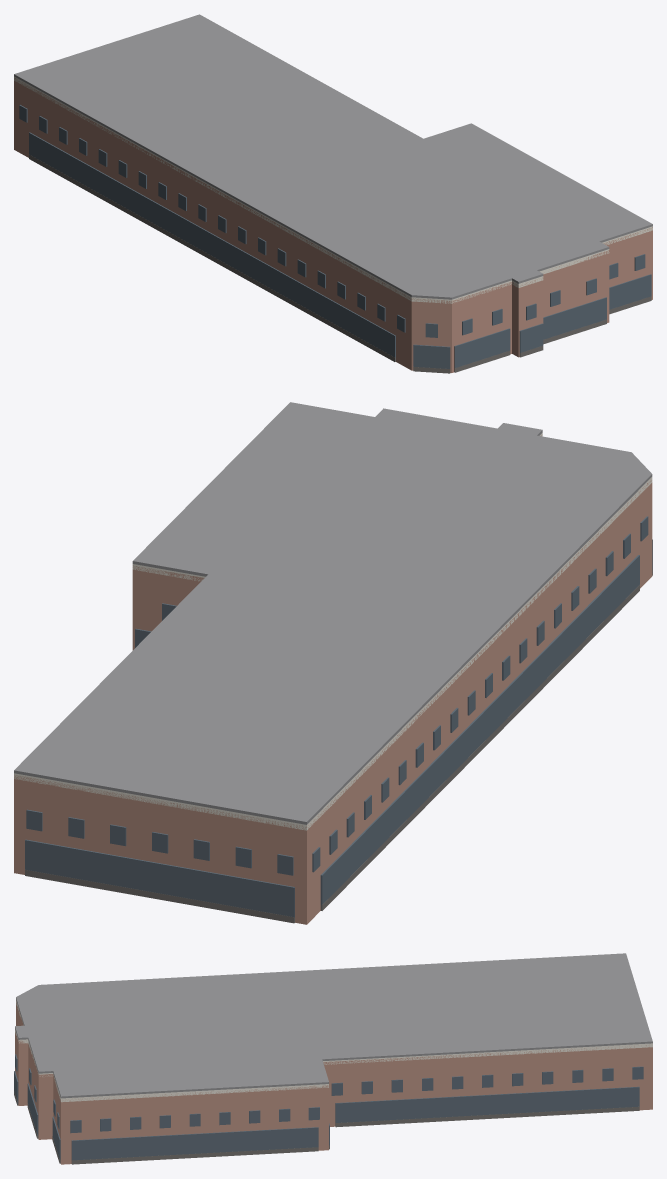
The model's file is s24_gis_247859_820649.glb.
The picture shows the model from 3 angles, top to bottom: view 1: azimuth 30°, elevation 25°; view 2: azimuth 150°, elevation 25°; view 3: azimuth 270°, elevation 25°; orthographic projection. The views are drawn at different scales.
Visible parts, largest first — view 1: roofcap, mass, store_0, cornice, bulk_0, store_6, store_2, store_8, store_1, store_4; view 2: roofcap, mass, store_0, store_12, cornice, bulk_0, bulk_12; view 3: roofcap, mass, store_11, store_9, cornice, bulk_11, bulk_9.
Part boxes in pixels (<box>): roofcap: <box>14,14,652,299</box>; mass: <box>14,78,652,372</box>; store_0: <box>29,132,395,359</box>; cornice: <box>14,76,652,303</box>; bulk_0: <box>29,154,395,361</box>; store_6: <box>543,297,606,339</box>; store_2: <box>454,328,510,370</box>; store_8: <box>609,274,651,309</box>; store_1: <box>413,344,450,368</box>; store_4: <box>519,323,543,352</box>; roofcap: <box>14,402,652,824</box>; mass: <box>14,435,652,924</box>; store_0: <box>320,555,639,908</box>; store_12: <box>25,839,294,920</box>; cornice: <box>14,433,652,830</box>; bulk_0: <box>320,585,639,910</box>; bulk_12: <box>25,869,294,923</box>; roofcap: <box>15,953,652,1098</box>; mass: <box>15,1002,652,1164</box>; store_11: <box>335,1086,639,1122</box>; store_9: <box>71,1127,318,1160</box>; cornice: <box>15,1000,652,1102</box>; bulk_11: <box>335,1106,639,1127</box>; bulk_9: <box>71,1147,318,1164</box>.
Bounding box in the file's own units: 37.65 × 8.35 × 70.98.
